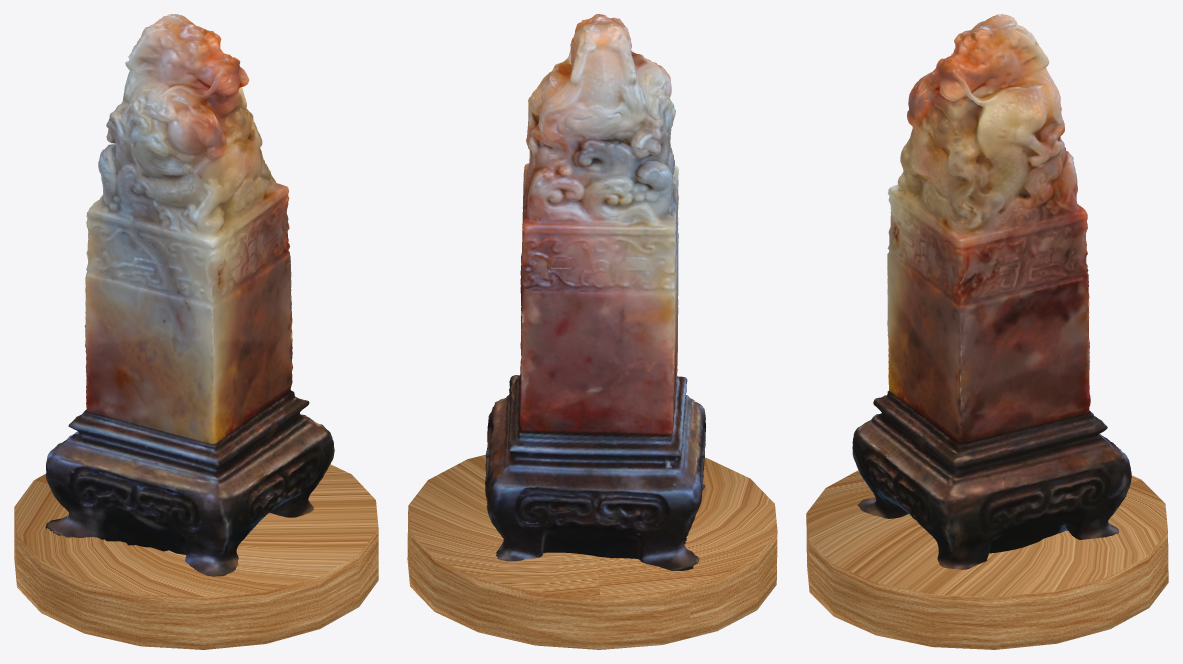
Rendered from 寿山石雕.glb.
3 views of the same model, side by side, from view 1: azimuth 30°, elevation 25°; view 2: azimuth 150°, elevation 25°; view 3: azimuth 270°, elevation 25° (orthographic). The views are drawn at different scales.
Visible parts, largest first — view 1: Object_5, Cylinder001.2_2; view 2: Object_5, Cylinder001.2_2; view 3: Object_5, Cylinder001.2_2.
Boxes of the visible parts, left/top/right/bottom form: Object_5: left=45, top=14, right=334, bottom=576; Cylinder001.2_2: left=14, top=464, right=378, bottom=649; Object_5: left=485, top=14, right=705, bottom=570; Cylinder001.2_2: left=407, top=454, right=777, bottom=649; Object_5: left=852, top=14, right=1131, bottom=569; Cylinder001.2_2: left=806, top=470, right=1168, bottom=649.
Size of the model in its own units: 1.03 by 1.7 by 1.02.
Materials: 2 (2 with a texture image).
